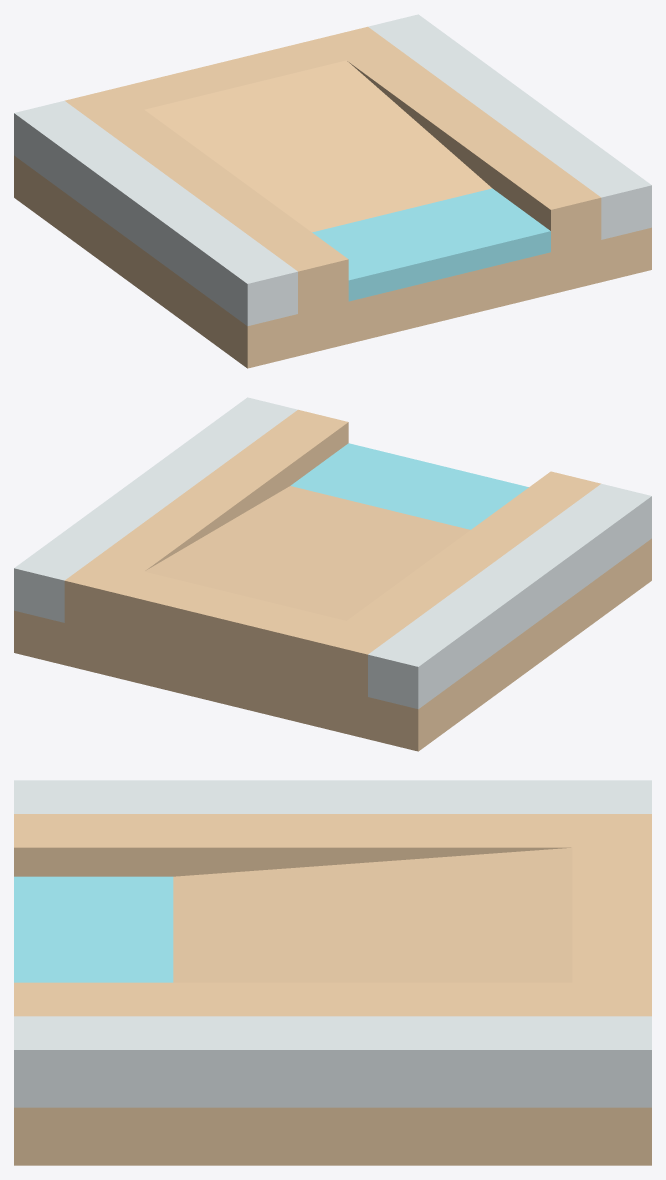
The model's file is snow_tile_riverTransition.glb.
3 views of the same model, one above another, from view 1: azimuth 30°, elevation 25°; view 2: azimuth 150°, elevation 25°; view 3: azimuth 270°, elevation 25° (orthographic). The views are drawn at different scales.
Parts seen in each view (by area): view 1: snow_tile_riverTransition; view 2: snow_tile_riverTransition; view 3: snow_tile_riverTransition.
Boxes of the visible parts, left/top/right/bottom form: snow_tile_riverTransition: left=14, top=14, right=651, bottom=368; snow_tile_riverTransition: left=14, top=397, right=651, bottom=751; snow_tile_riverTransition: left=14, top=780, right=651, bottom=1165.
Bounding box in the file's own units: 1 × 0.2 × 1.
